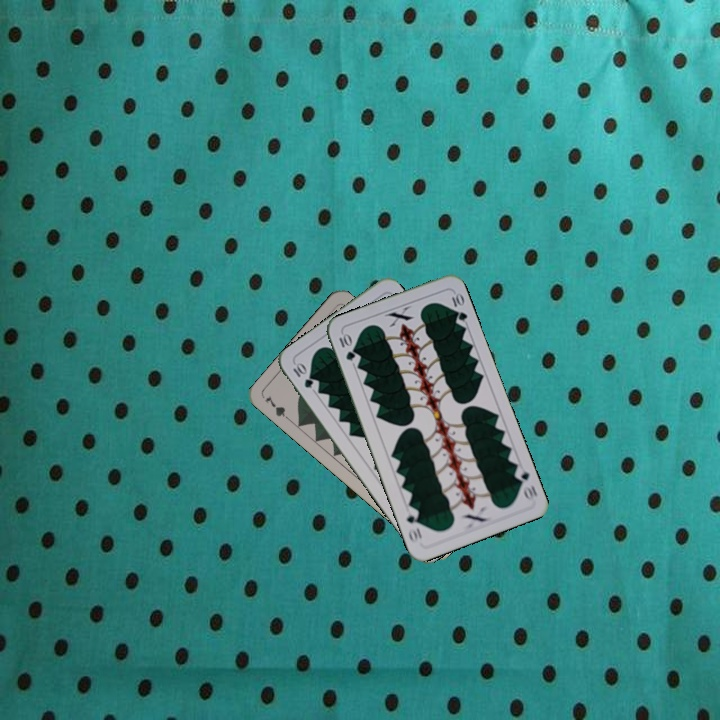G10: (510, 463, 540, 504), (289, 359, 316, 391), (335, 329, 358, 363)
G7: (261, 392, 294, 424)
